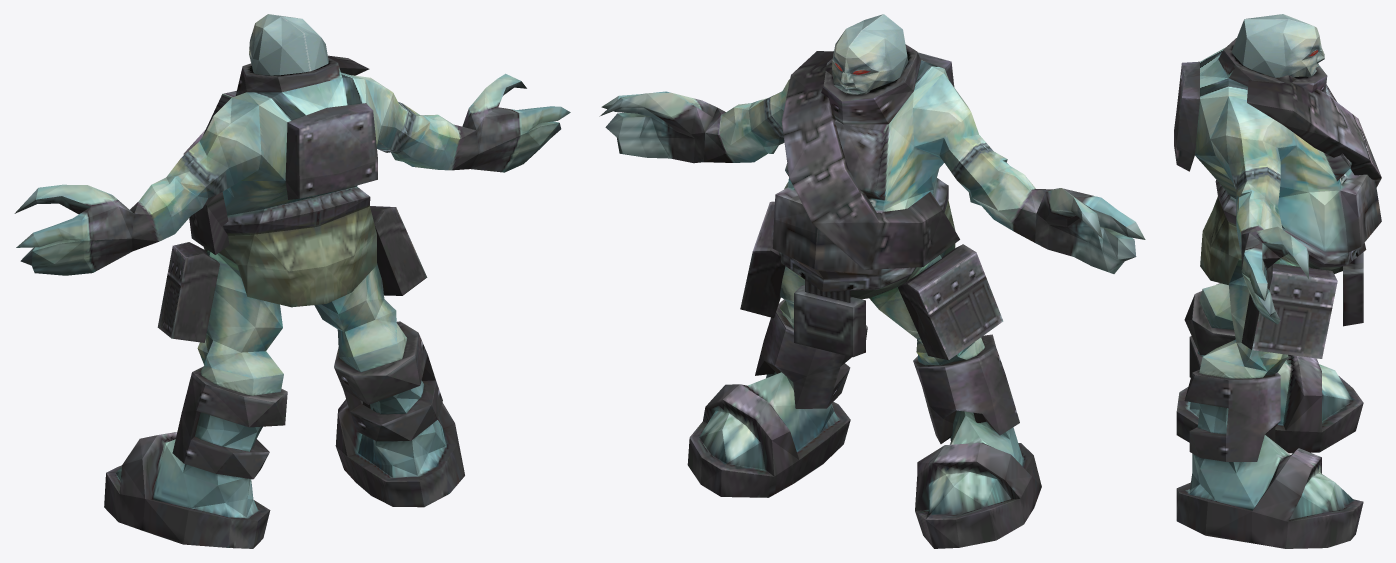
Rendered from UVET.obj.
3 views of the same model, side by side, from view 1: azimuth 30°, elevation 25°; view 2: azimuth 150°, elevation 25°; view 3: azimuth 270°, elevation 25° (orthographic). The views are drawn at different scales.
Visible parts, largest first — view 1: Node 0; view 2: Node 0; view 3: Node 0.
Boxes of the visible parts, x1,y1,x2,y2 form: Node 0: [14, 14, 570, 548]; Node 0: [599, 14, 1145, 548]; Node 0: [1174, 14, 1381, 548].
Bounding box in the file's own units: 2.4 × 2 × 0.8.
Materials: 2 (2 with a texture image).
